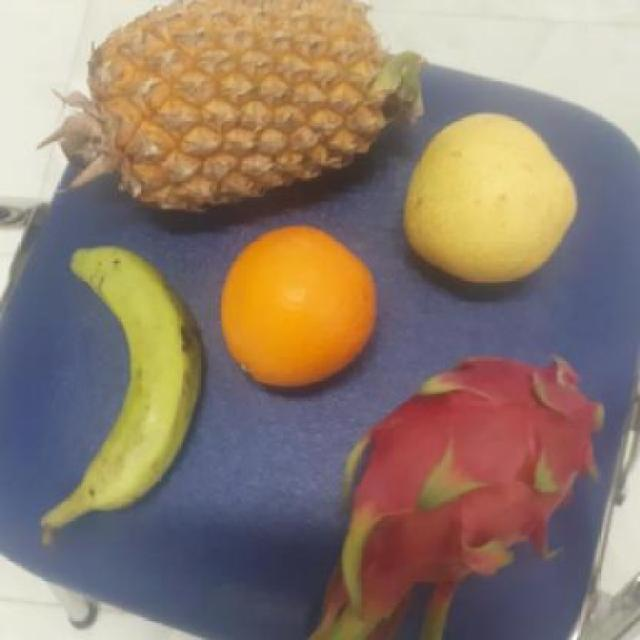banana: (60, 253, 208, 516)
dragon fruit: (343, 358, 615, 573)
guava: (402, 119, 583, 283)
pineapple: (86, 0, 412, 222)
